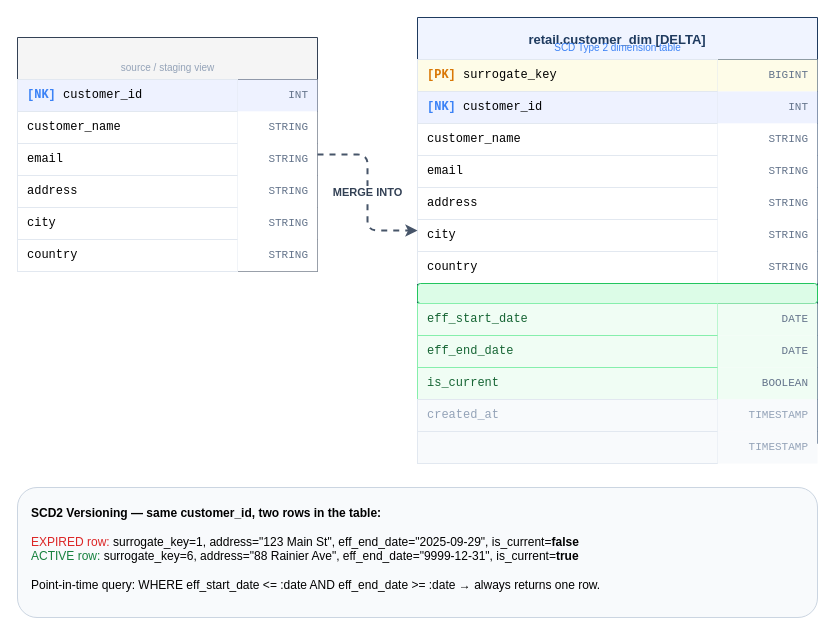
This 835x638 diagram has some shape labels left out. Each missing label, with the box of its shape:
staging_updates: (16, 36, 318, 272)
updated_at: (416, 430, 718, 464)
── SCD2 versioning columns ──: (416, 282, 818, 304)
